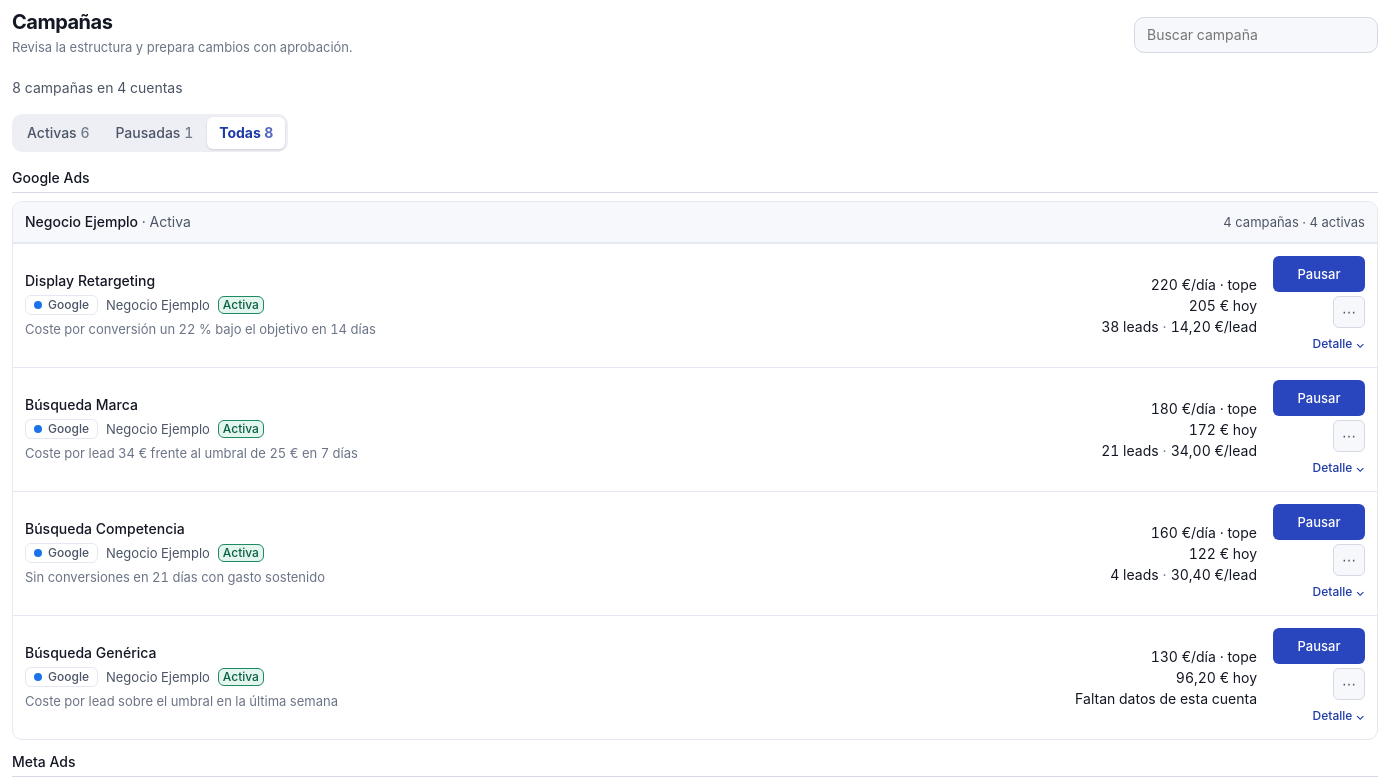
CampanasPage › buscar filtra por nombre sin pedir nada al servidor
Check: the text "Display Retargeting" is shown, box [25, 272, 155, 289]
Type "genérica" into the search field labelled "Buscar campaña".
click(1256, 35); type("genérica")  # box [1134, 17, 1378, 53]
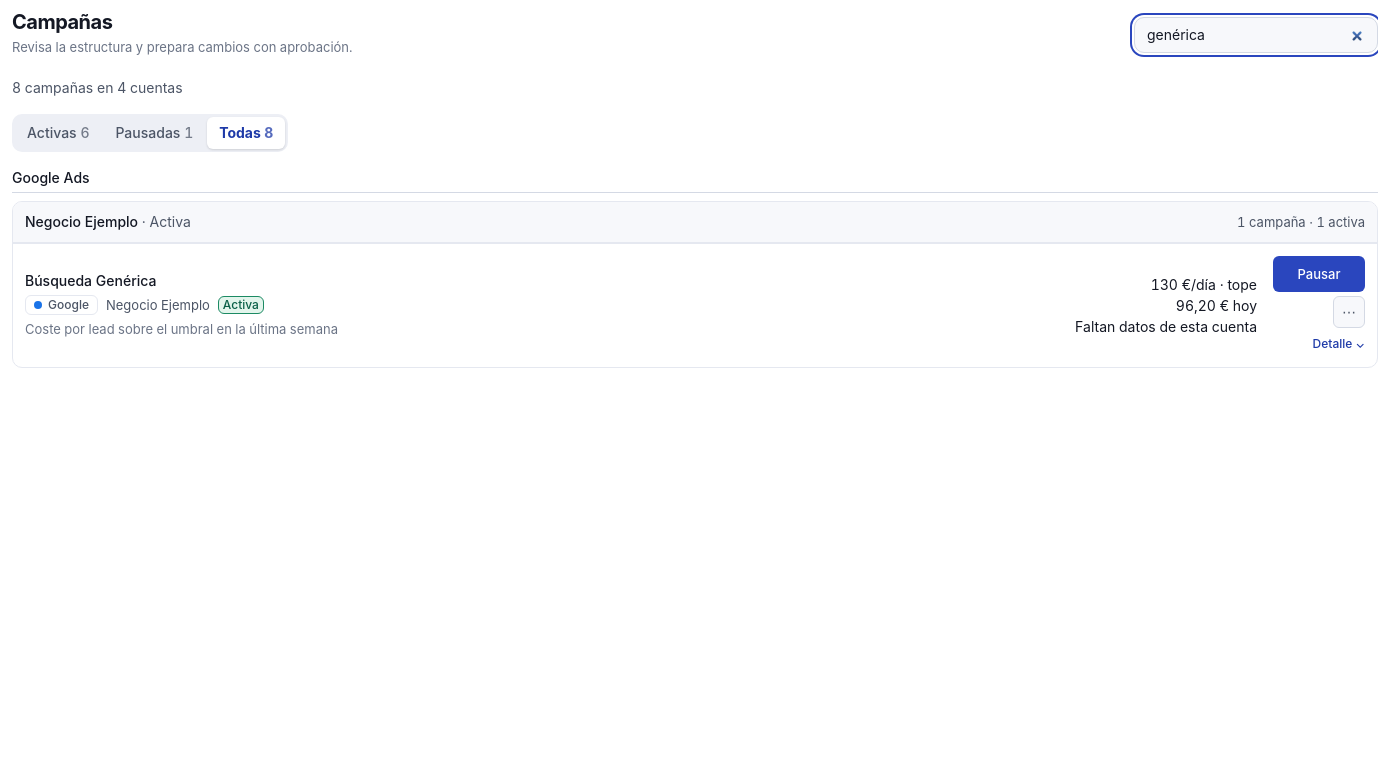
Check: the text "Búsqueda Genérica" is shown, box [25, 272, 156, 289]
Check: the button "Display Retargeting" is gone
